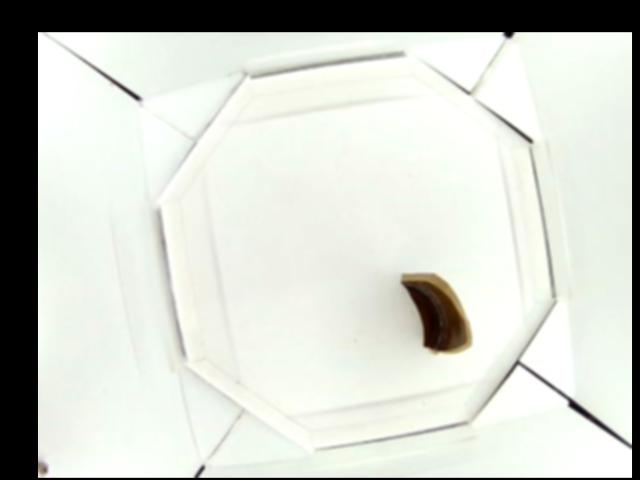China: (399, 267, 477, 354)
